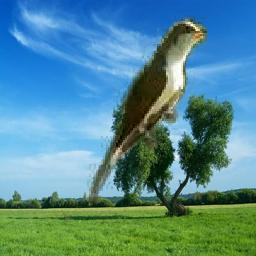Cuckoo: (87, 16, 207, 203)
